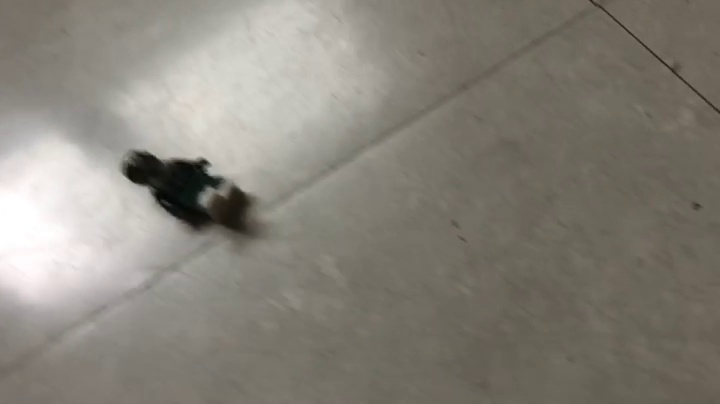people: (119, 148, 254, 229)
